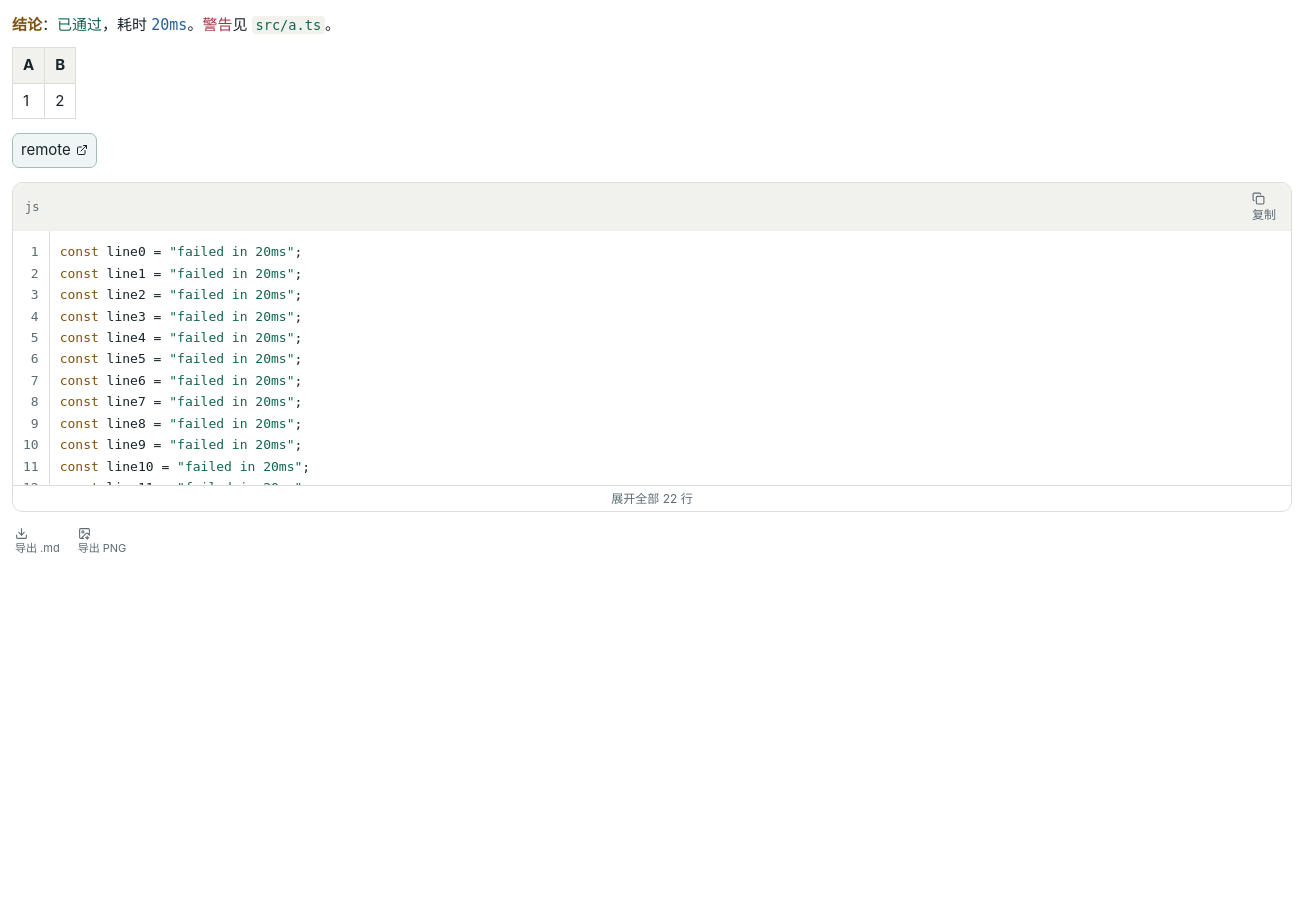
Test: renders GFM and colours prose without rewriting fenced source or fetching remote images
Check: the text "结论" is shown, box x1=12 y1=15 x2=42 y2=34
Check: the text with class "md-metric" reads "20ms", box x1=151 y1=16 x2=187 y2=34
Click the button "展开全部 22 行": (652,497) x1=13 y1=485 x2=1291 y2=509
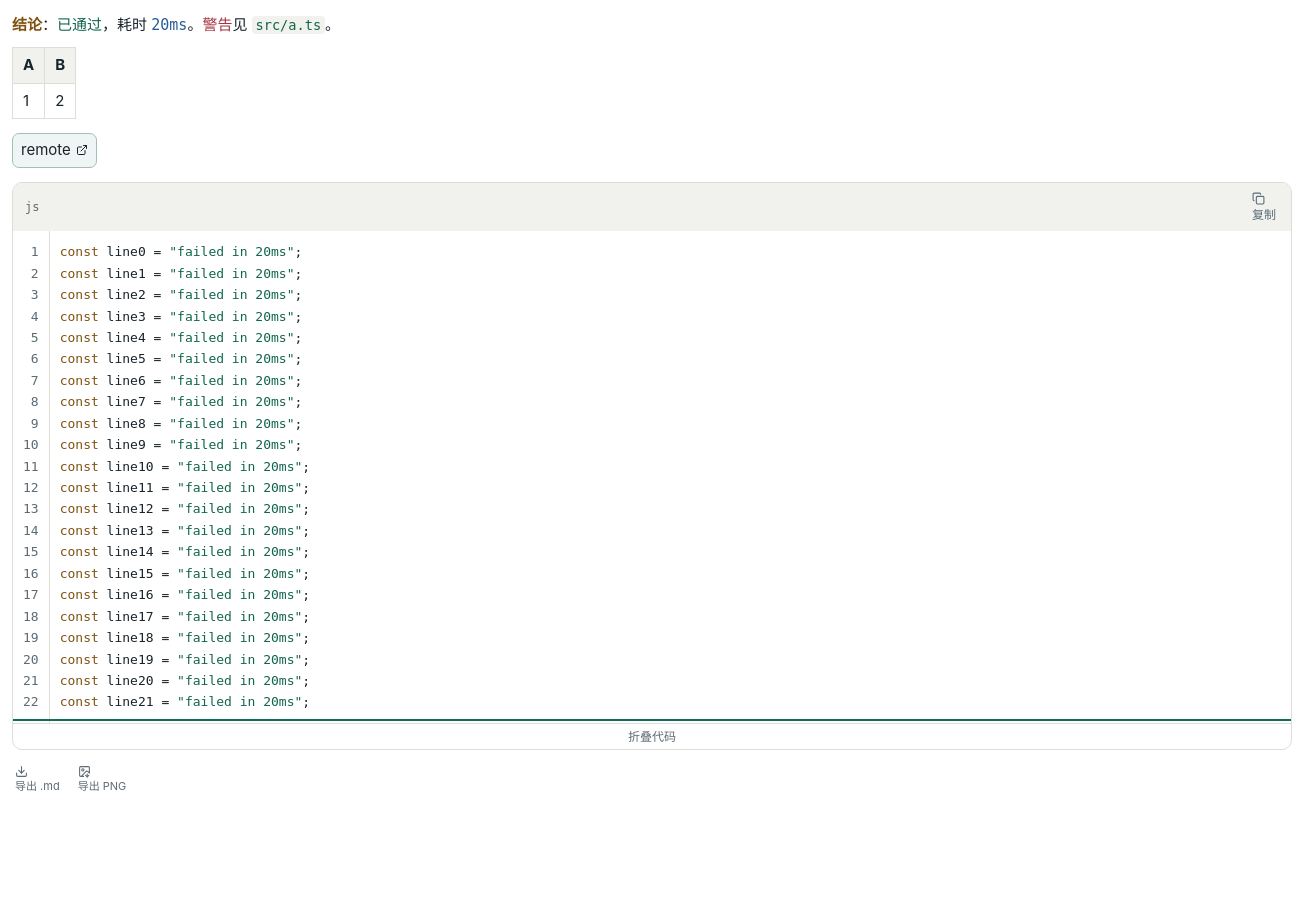
Check: the button named "展开全部 22 行" is expanded, box x1=13 y1=723 x2=1291 y2=747
